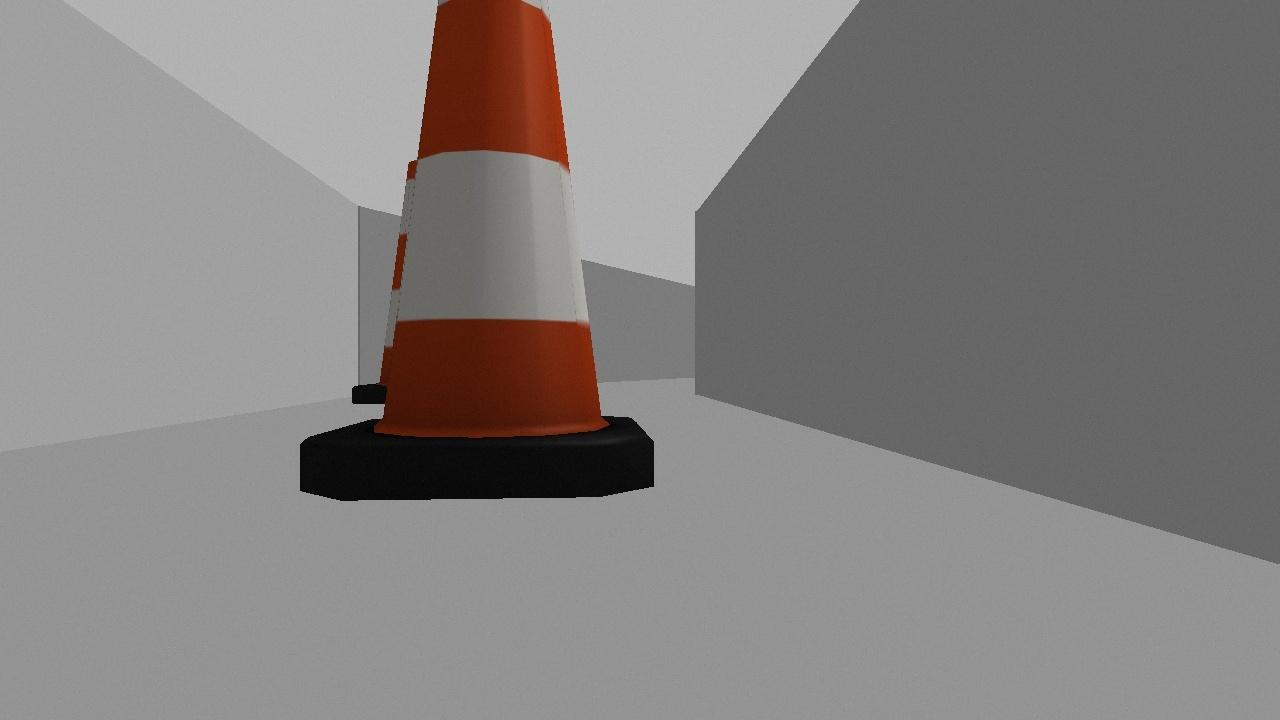cone_barrel: (296, 5, 653, 502)
